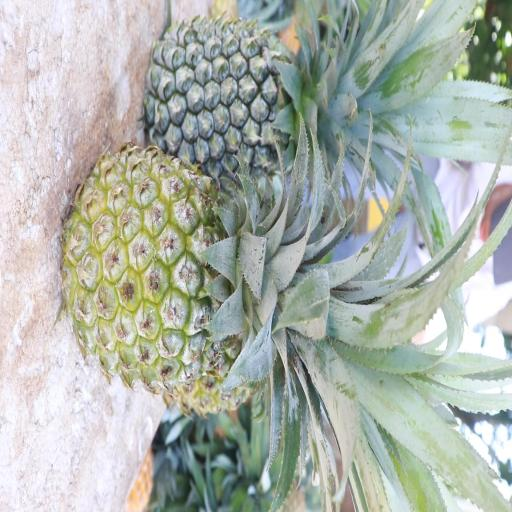------------------------------: (56, 146, 351, 400)
